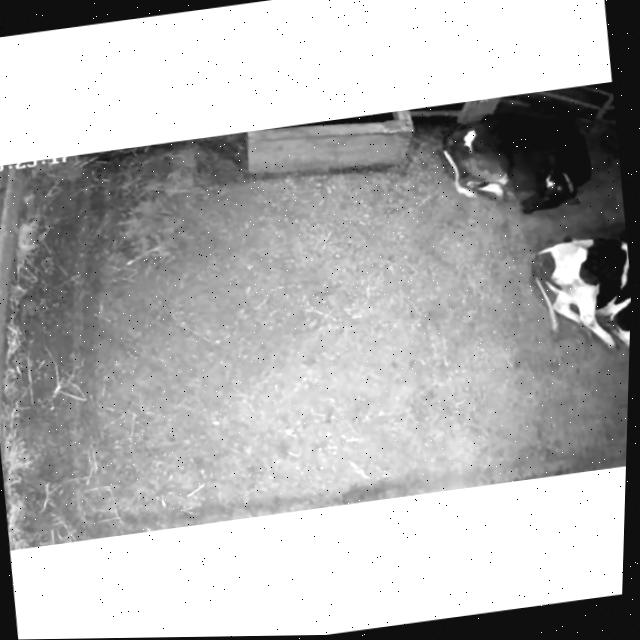lay: (423, 87, 615, 236), (501, 217, 633, 399)
